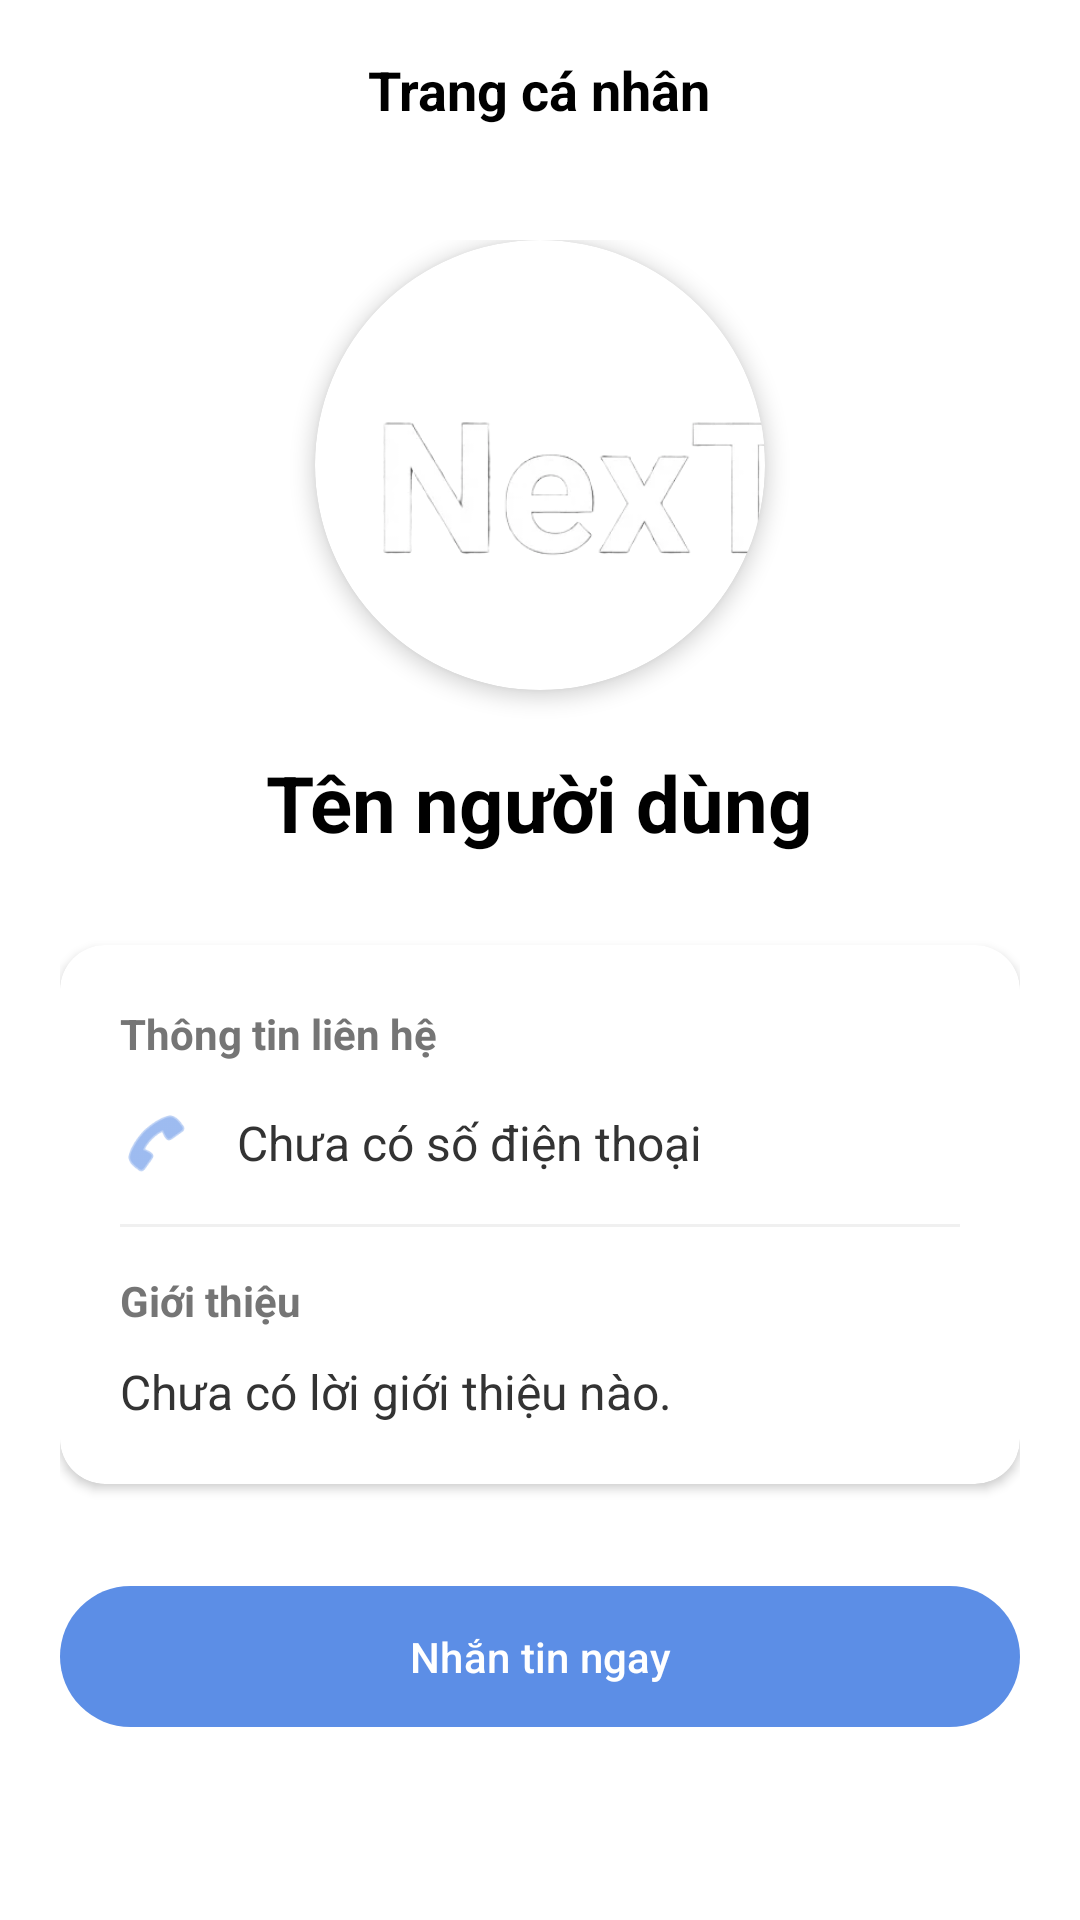

Named icons in this screenshot (1080px×1920px) and their centers, (x,y):
call: (156,1143)
